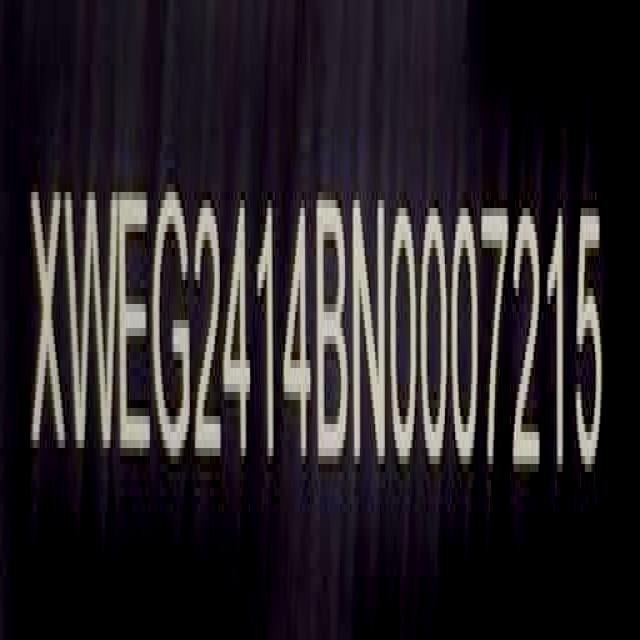0: (420, 208, 450, 470), (452, 202, 481, 472), (392, 207, 420, 470)
1: (549, 201, 571, 486), (257, 190, 277, 468)
2: (195, 194, 226, 471), (514, 205, 543, 490)
4: (283, 193, 315, 473), (223, 190, 252, 466)
5: (576, 197, 605, 484)
7: (483, 198, 509, 478)
B: (318, 195, 350, 471)
E: (118, 184, 153, 467)
G: (154, 185, 192, 464)
N: (352, 190, 387, 470)
W: (68, 183, 119, 466)
X: (31, 178, 68, 466)
